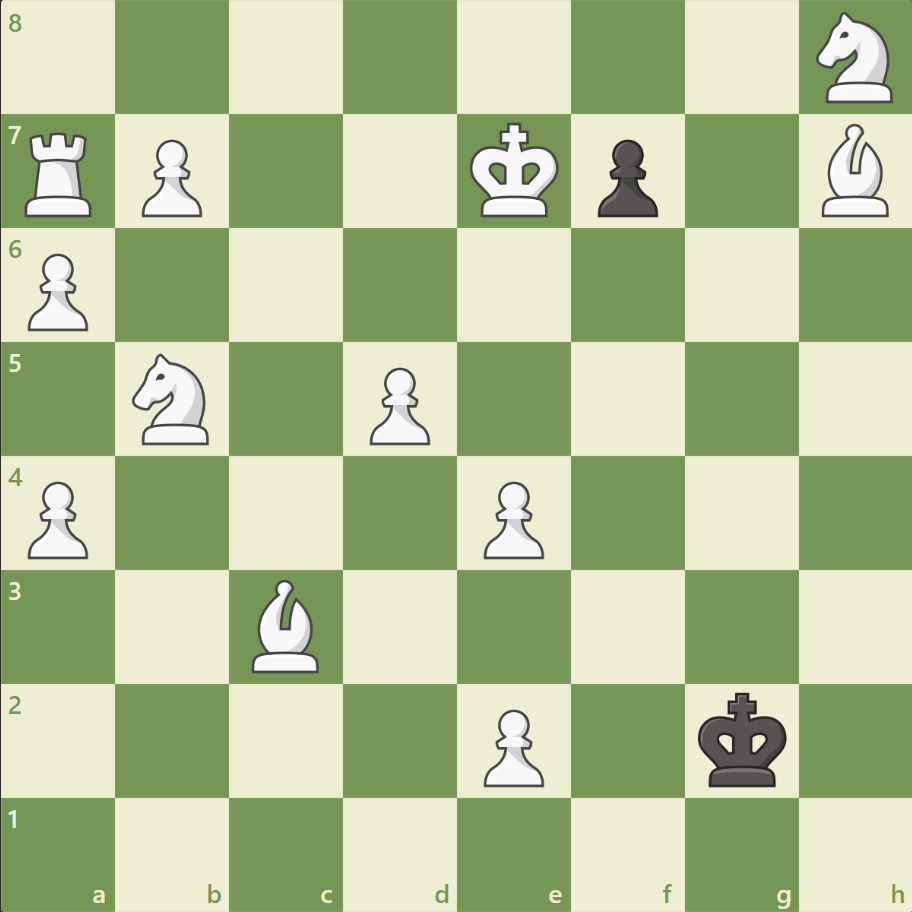B: (812, 120, 896, 222), (244, 574, 328, 676)
K: (465, 117, 565, 225)
N: (124, 348, 222, 450), (806, 7, 903, 110)
P: (133, 132, 208, 223), (20, 246, 95, 337), (20, 473, 95, 564), (474, 473, 549, 564), (474, 700, 549, 791), (361, 359, 435, 450)
R: (19, 125, 102, 222)
k: (692, 685, 792, 793)
p: (588, 132, 662, 223)
